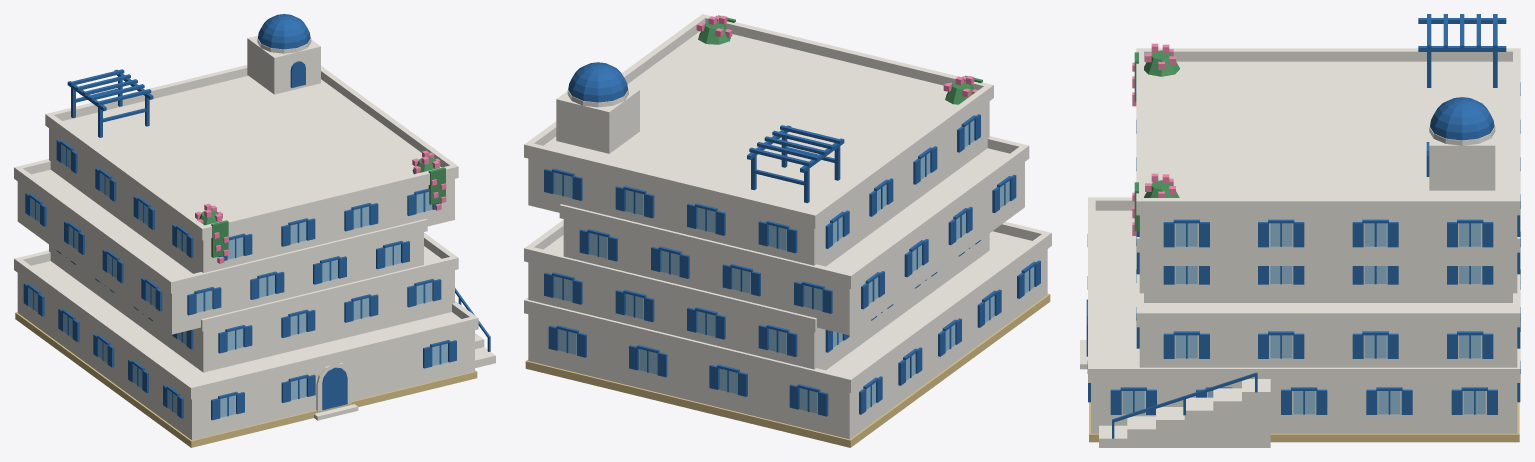
File: house-2x2-4f-aegean-a.glb
3 renders of one model, left to right at view 1: azimuth 30°, elevation 25°; view 2: azimuth 150°, elevation 25°; view 3: azimuth 270°, elevation 25°, orthographic. The views are drawn at different scales.
Visible parts, largest first — view 1: house-2x2-4f-aegean-a; view 2: house-2x2-4f-aegean-a; view 3: house-2x2-4f-aegean-a.
Part boxes in pixels (<box>): house-2x2-4f-aegean-a: <box>14,14,495,447</box>; house-2x2-4f-aegean-a: <box>524,14,1051,447</box>; house-2x2-4f-aegean-a: <box>1080,14,1520,447</box>.
Bounding box in the file's own units: 1.99 × 1.59 × 2.
Materials: 1 (1 with a texture image).
